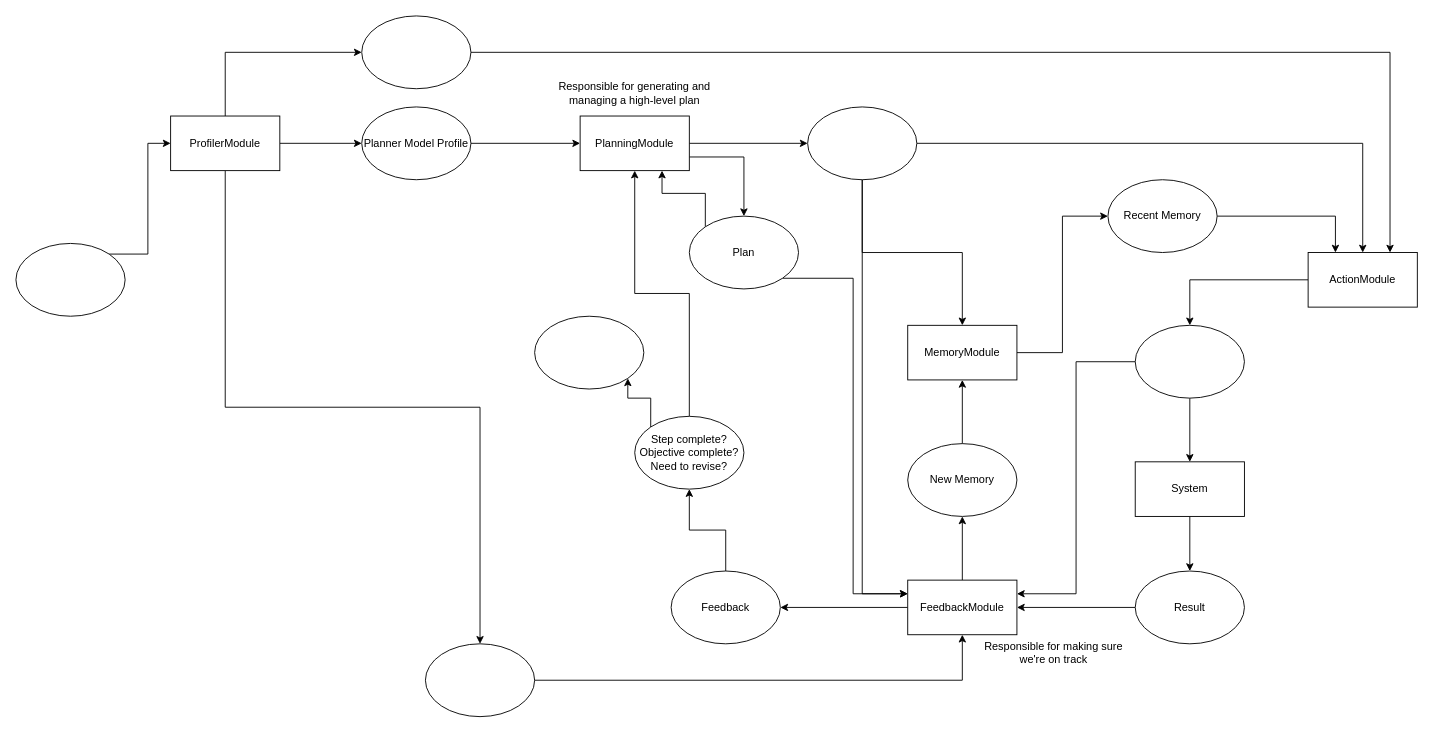
This 1433x733 diagram has some shape labels left out. The centre of each missing label's shape, as x and y in pixels:
Action (Python Code): point 1189,361
Action Model Profile: point 416,52
Feedback Model Profile: point 480,680
If done, exit: point 589,352
Next Step: point 862,143
User's Objective: point 70,279
